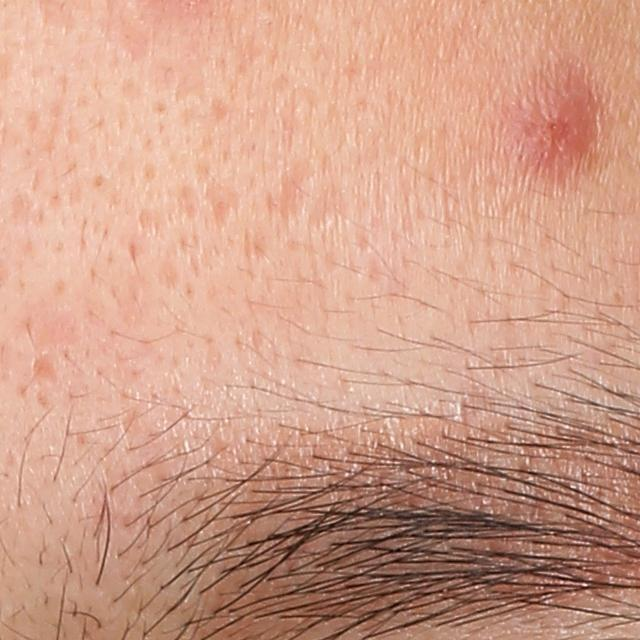atrophic_scar: (267, 154, 321, 229), (201, 180, 241, 231), (31, 356, 60, 384)
papule: (516, 77, 589, 169)
